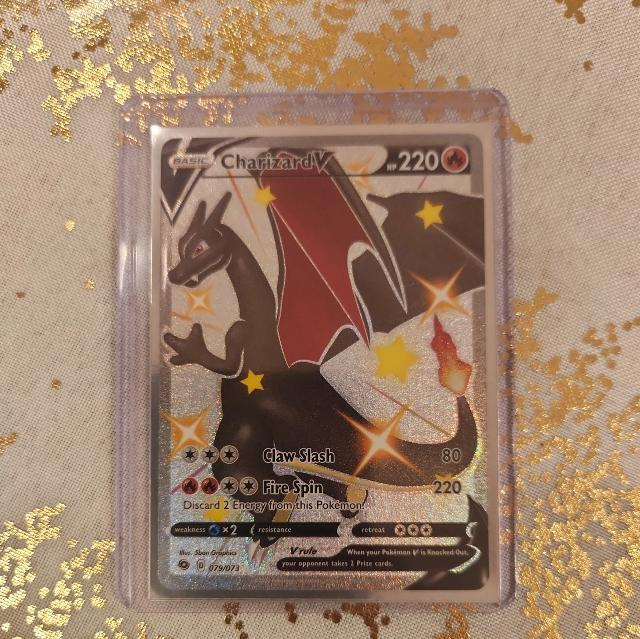Card: (154, 128, 496, 596)
Name: (217, 147, 344, 177)
